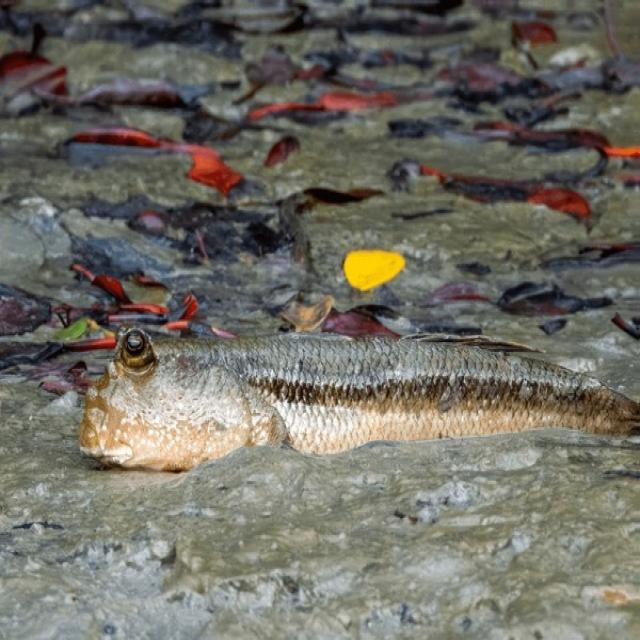Mudskipper: (77, 322, 639, 473)
